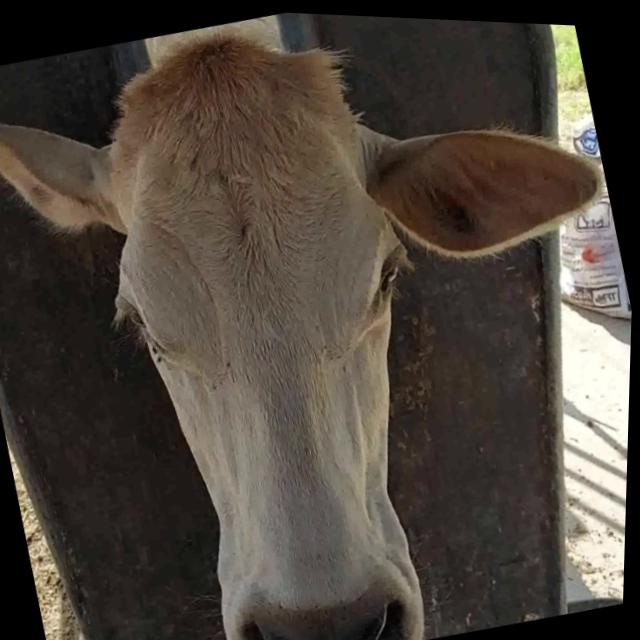cowFace: (56, 2, 496, 640)
